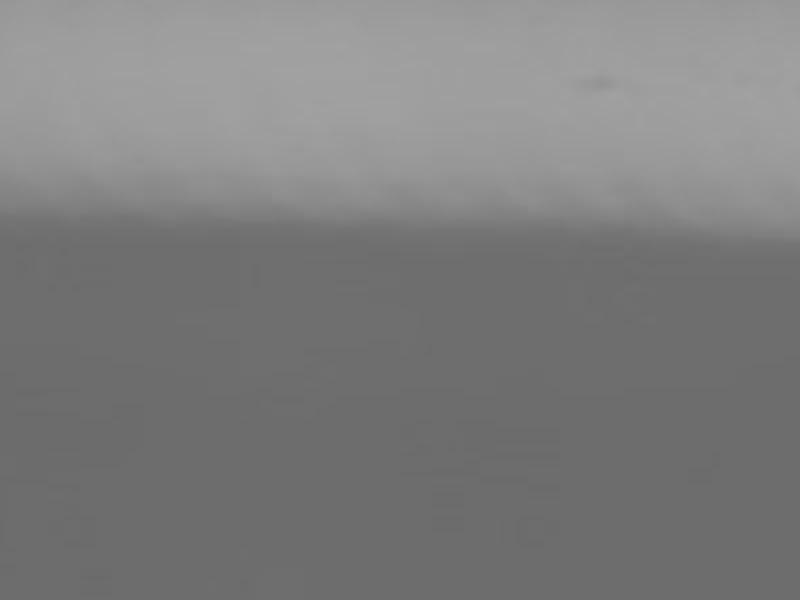defect: (583, 73, 615, 94)
